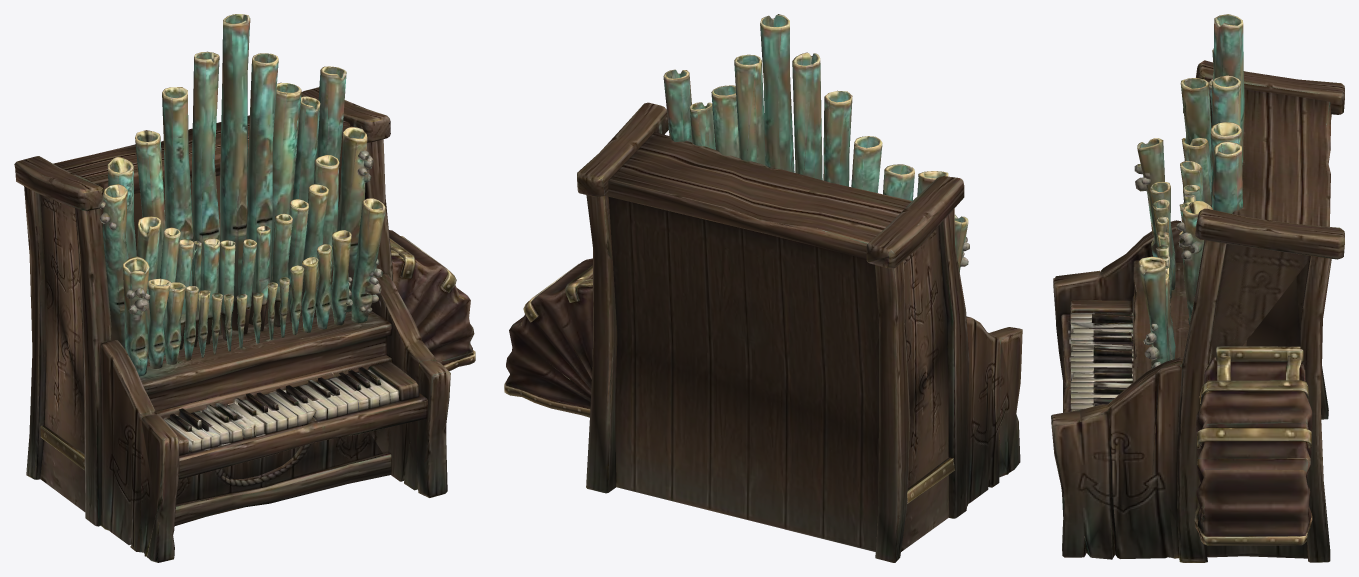
The model's file is organ.glb.
The picture shows the model from 3 angles, left to right: view 1: azimuth 30°, elevation 25°; view 2: azimuth 150°, elevation 25°; view 3: azimuth 270°, elevation 25°; orthographic projection. The views are drawn at different scales.
Size of the model in its own units: 0.9227 by 1 by 0.5601.
1 material, 1 textured.
